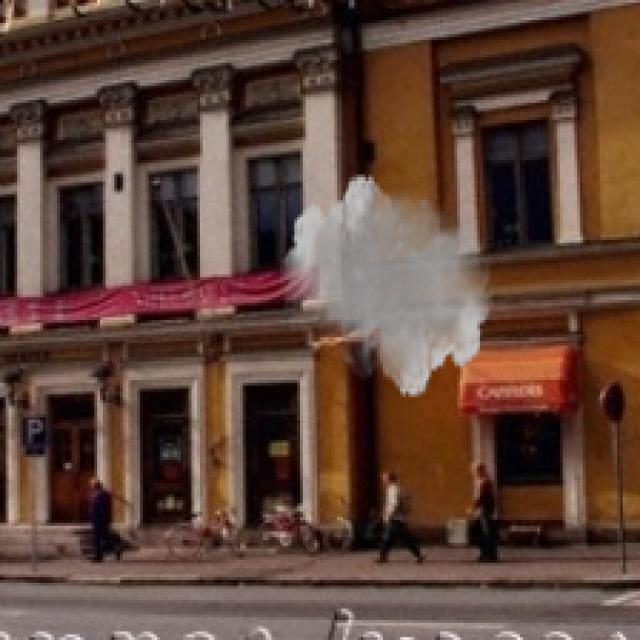Smoke: (280, 171, 494, 400)
